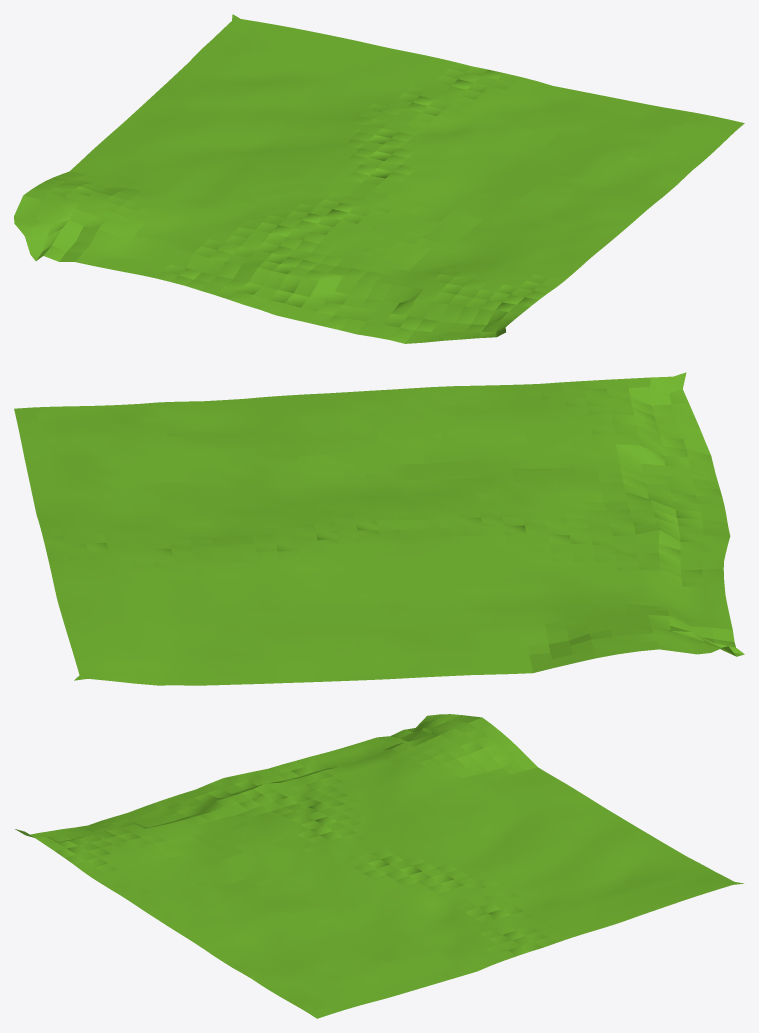
Rendered from lowpolytest (2).fbx.
The picture shows the model from 3 angles, top to bottom: view 1: azimuth 30°, elevation 25°; view 2: azimuth 150°, elevation 25°; view 3: azimuth 270°, elevation 25°; orthographic projection. The views are drawn at different scales.
Parts seen in each view (by area): view 1: lowpolytest__2_; view 2: lowpolytest__2_; view 3: lowpolytest__2_.
Boxes of the visible parts, x1,y1,x2,y2 form: lowpolytest__2_: [14, 14, 744, 343]; lowpolytest__2_: [14, 372, 744, 685]; lowpolytest__2_: [15, 714, 743, 1018].
Size of the model in its own units: 10838 by 533 by 11188.
